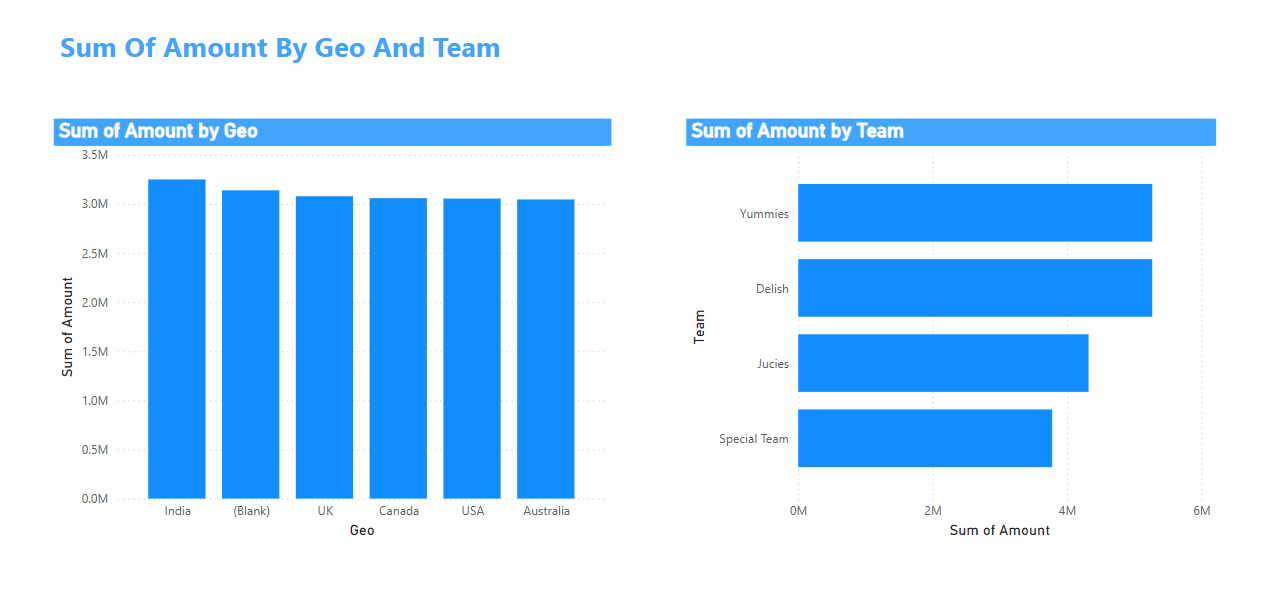

The dashboard page shown, as its layout file describes it:
{"tool":"powerbi","page":{"name":"Amount By Geo","canvas":[1280,720],"ordinal":0},"visuals":[{"type":"columnChart","fields":{"Category":["locations.Geo"],"Y":["Sum(sales.Amount)"]},"box":[67.3,135.7,545.4,415.8],"z":0},{"type":"barChart","fields":{"Y":["Sum(sales.Amount)"],"Category":["people.Team"]},"box":[686,135.7,518.5,415.8],"z":1000},{"type":"textbox","box":[68.5,41.6,544.2,52.6],"z":1001}]}

Visuals, with their boxes on the page's 1280x720 design canvas (x1, y1, x2, y2). These are canvas units, not pixel positions in the 1276x601 screenshot, which may show the page scaled, cropped or inside an application window:
columnChart - locations.Geo x Sum(sales.Amount): 67/136/613/552
barChart - Sum(sales.Amount) x people.Team: 686/136/1204/552
textbox: 68/42/613/94
